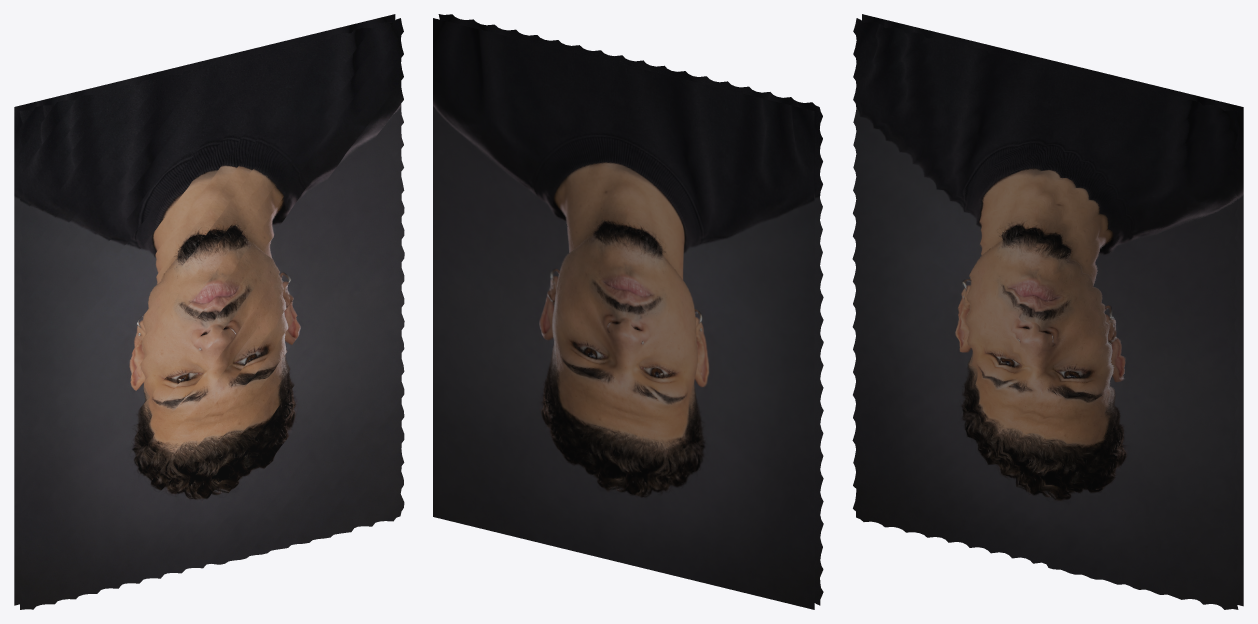
Rendered from gordao-low-depth-portrait.glb.
3 renders of one model, left to right at view 1: azimuth 30°, elevation 25°; view 2: azimuth 150°, elevation 25°; view 3: azimuth 330°, elevation 25°, orthographic.
Parts seen in each view (by area): view 1: low_depth_portrait; view 2: low_depth_portrait; view 3: low_depth_portrait.
Boxes of the visible parts, x1,y1,x2,y2 form: low_depth_portrait: (14,14,404,609); low_depth_portrait: (433,14,823,609); low_depth_portrait: (852,14,1243,609).
Size of the model in its own units: 1.6 by 2 by 0.1216.
Materials: 1 (1 with a texture image).
